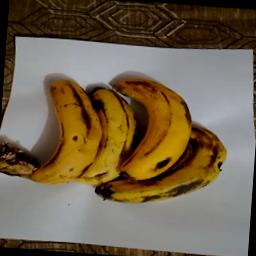Banana Unripe: (5, 68, 234, 214)
